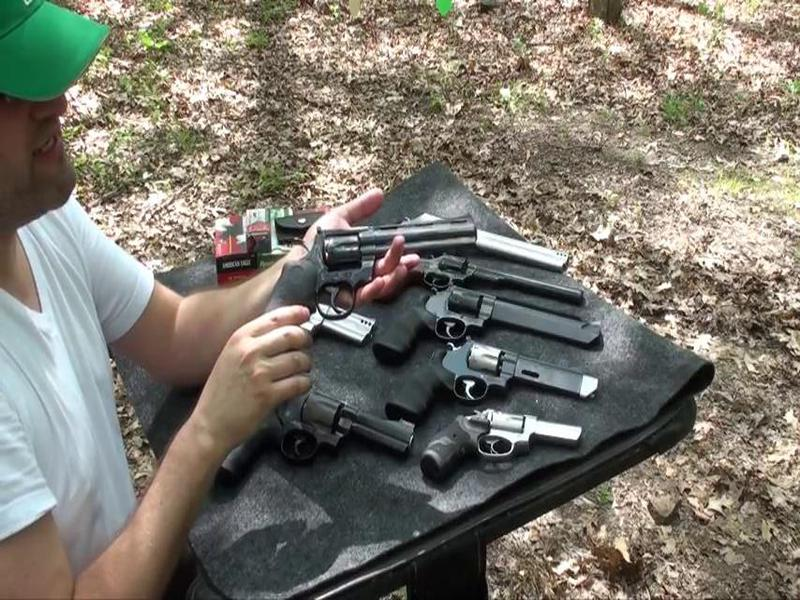Revolver: (249, 212, 486, 352)
